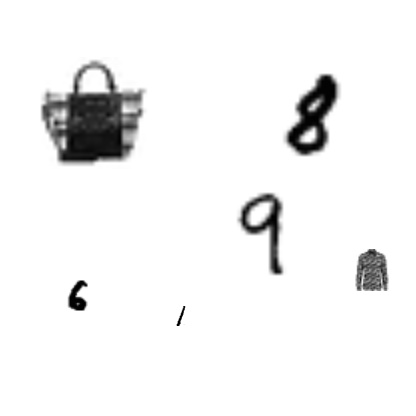1: (167, 302, 195, 330)
6: (56, 276, 98, 318)
8: (256, 59, 368, 171)
9: (210, 170, 322, 282)
Bag: (38, 57, 150, 169)
Shirt: (351, 249, 393, 291)
